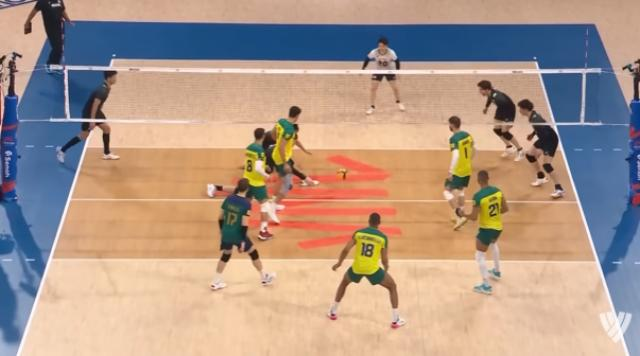Levantador: (436, 110, 476, 236)
Libero: (202, 174, 278, 296), (354, 30, 414, 118)
bola: (332, 163, 352, 183)
